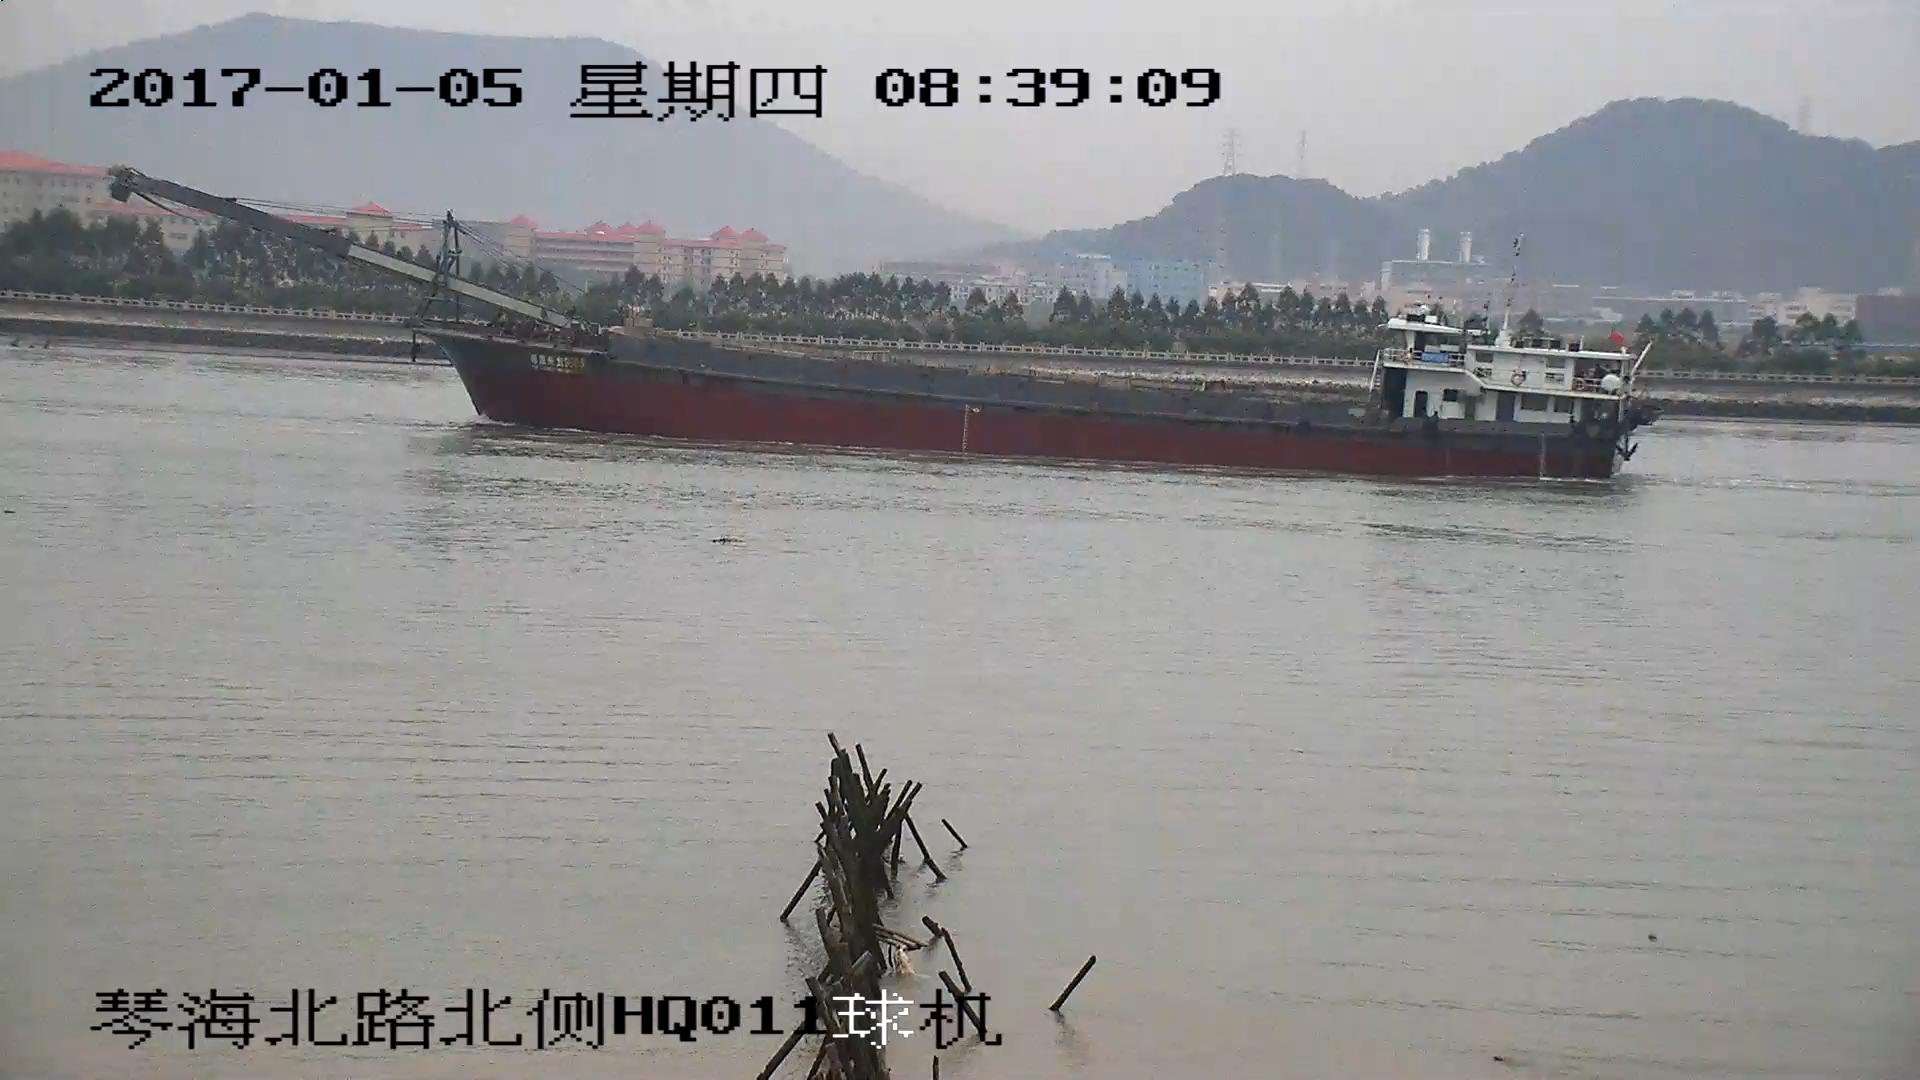bulk cargo carrier: (110, 169, 1651, 477)
